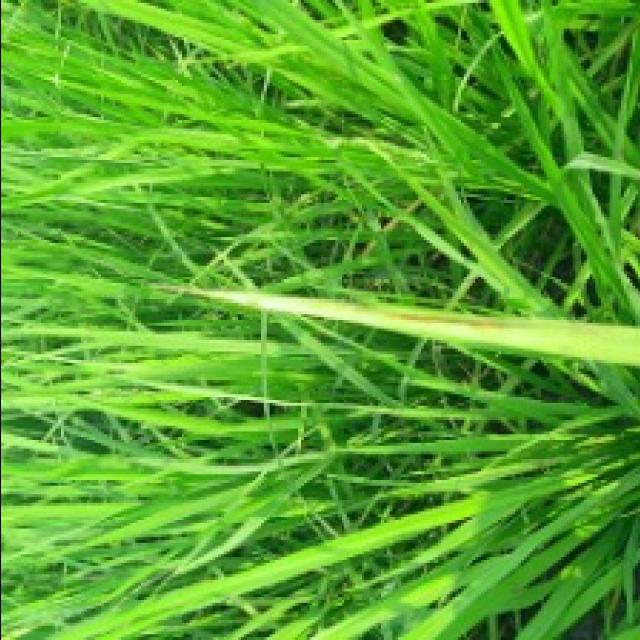Unhealthy: (358, 308, 597, 330)
